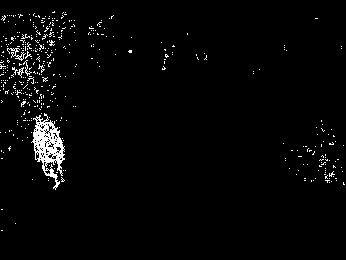person: (33, 111, 72, 192)
